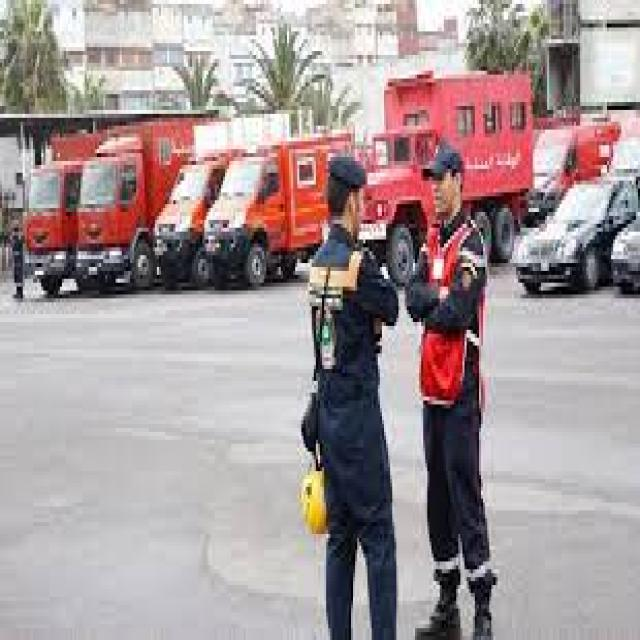pompier: (369, 70, 532, 279)
